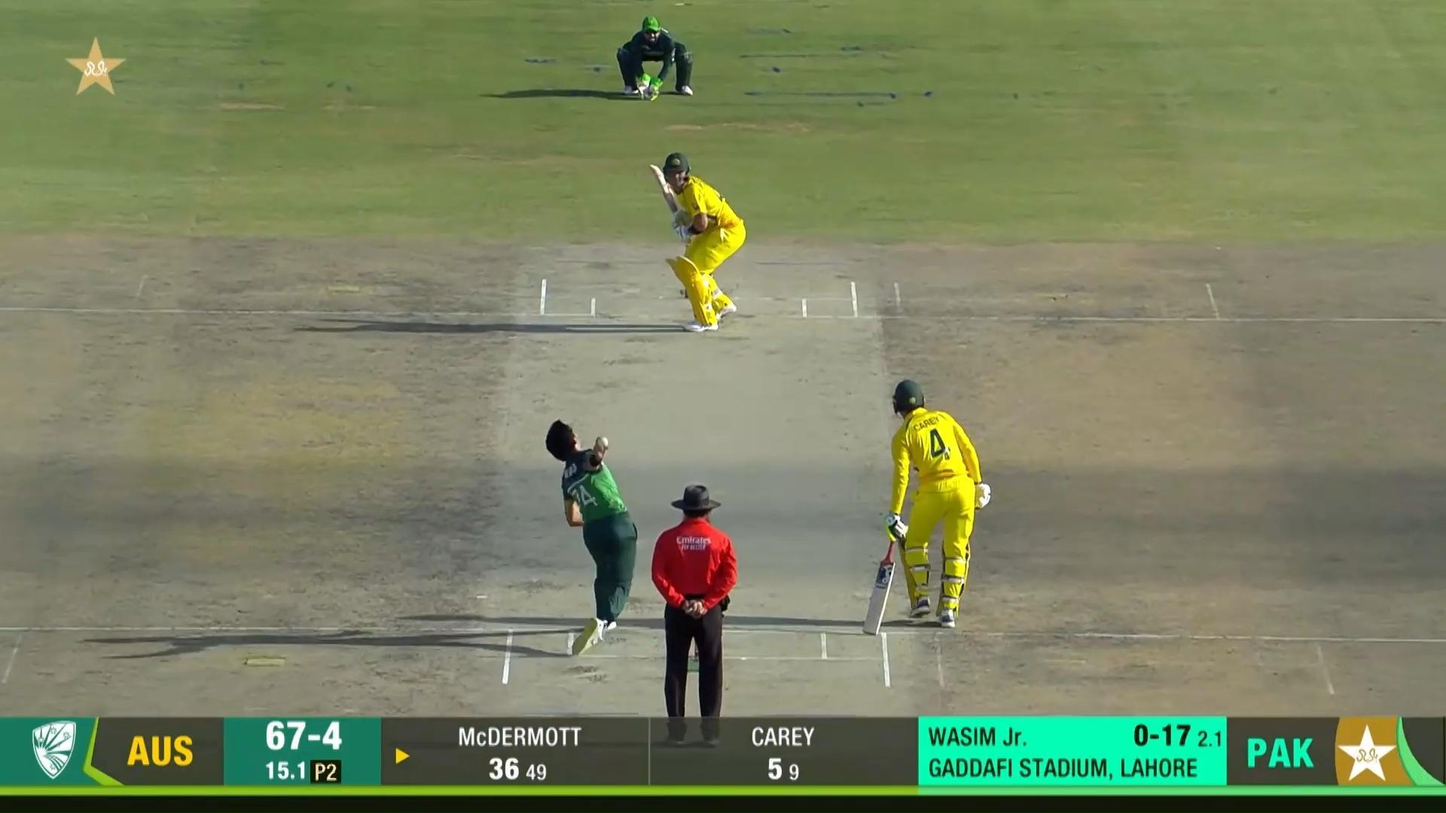BM 1: (646, 151, 747, 333)
BO: (545, 417, 639, 658)
